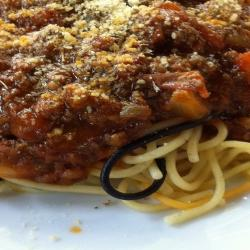bolonese_pasta: (8, 2, 250, 223)
